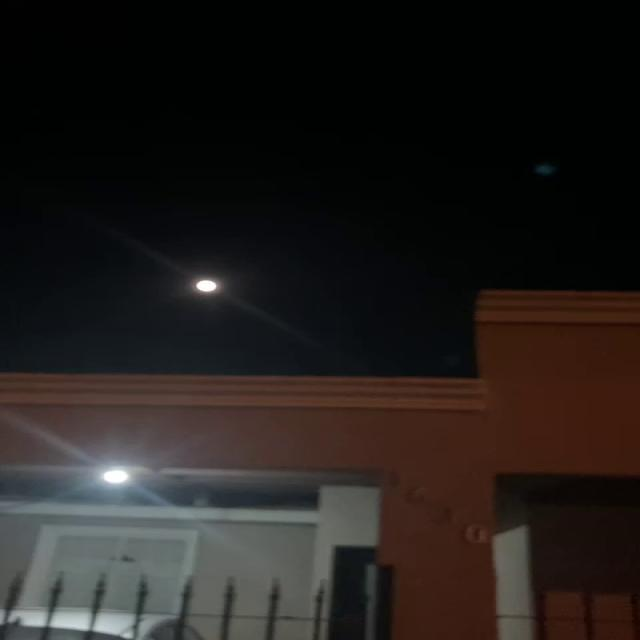moon: (177, 266, 229, 297)
